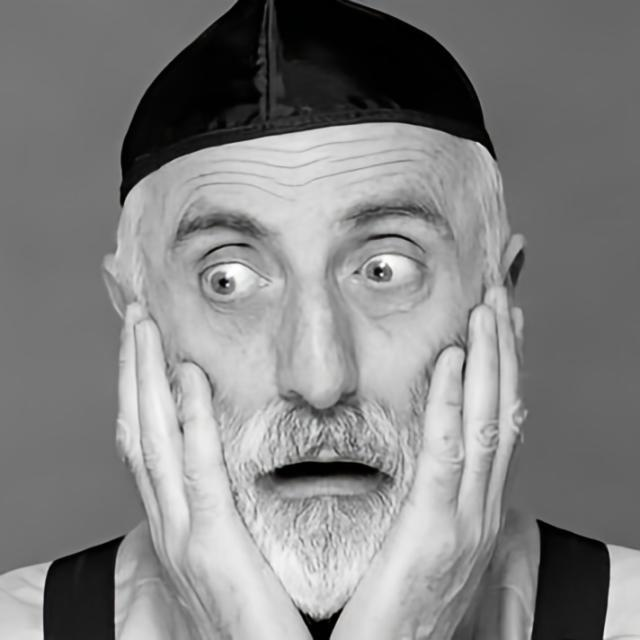fear: (132, 116, 482, 620)
